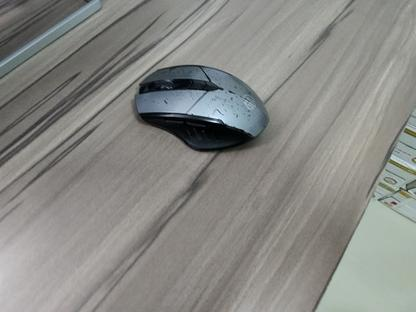mouse: (134, 63, 270, 152)
